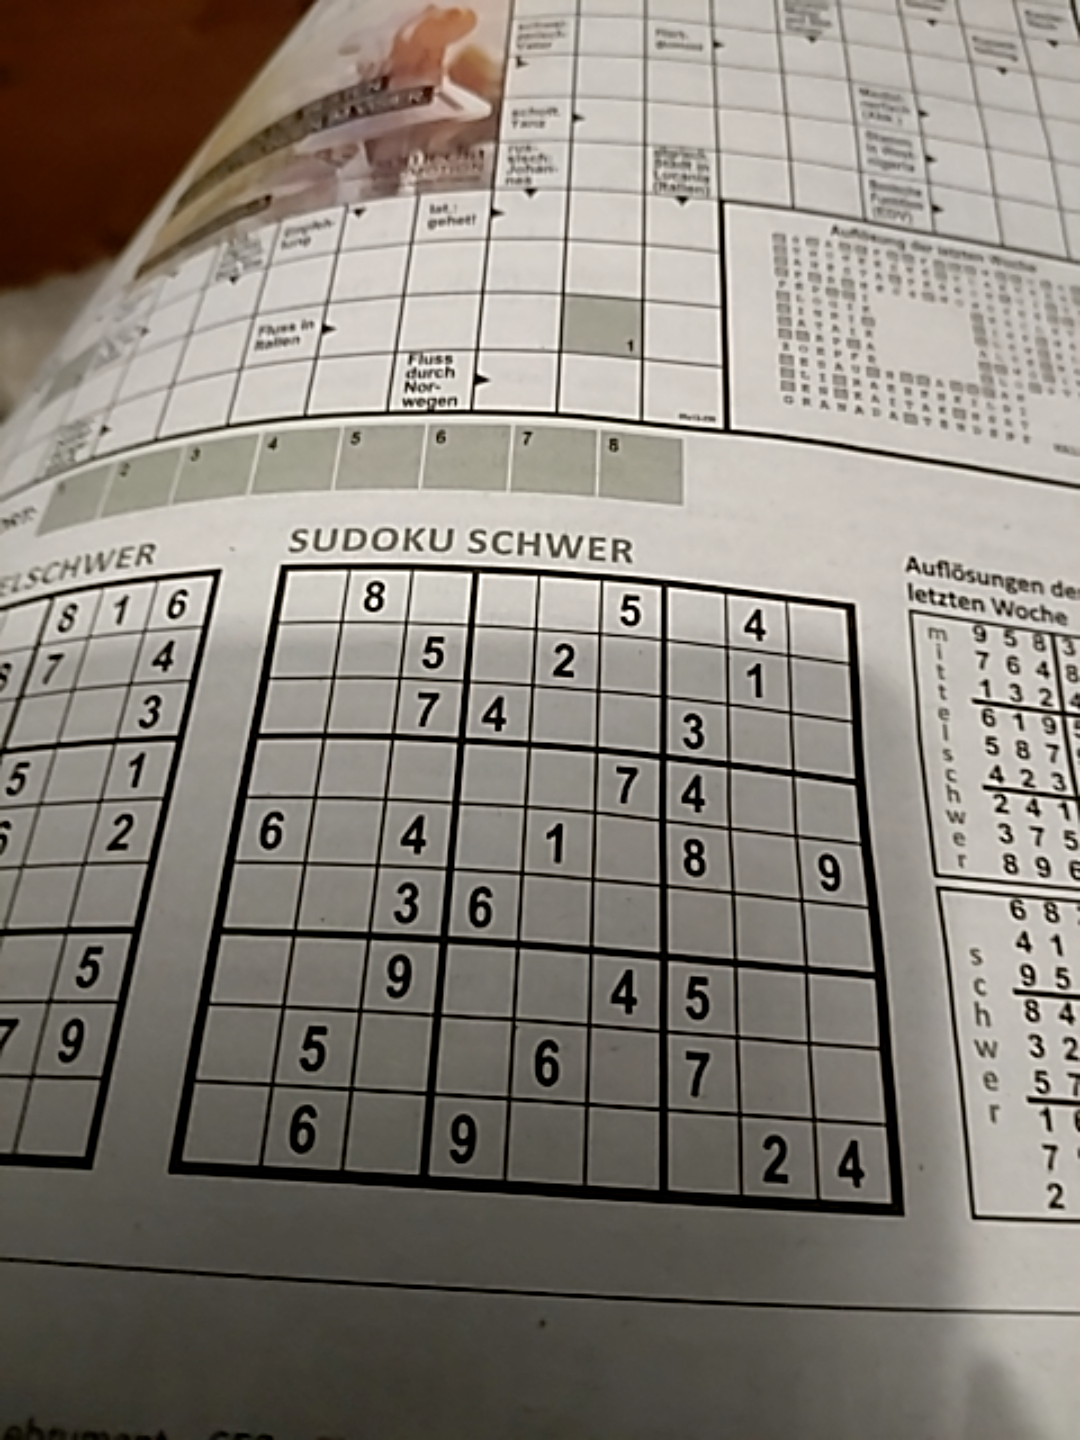sudoku: (172, 556, 905, 1219)
